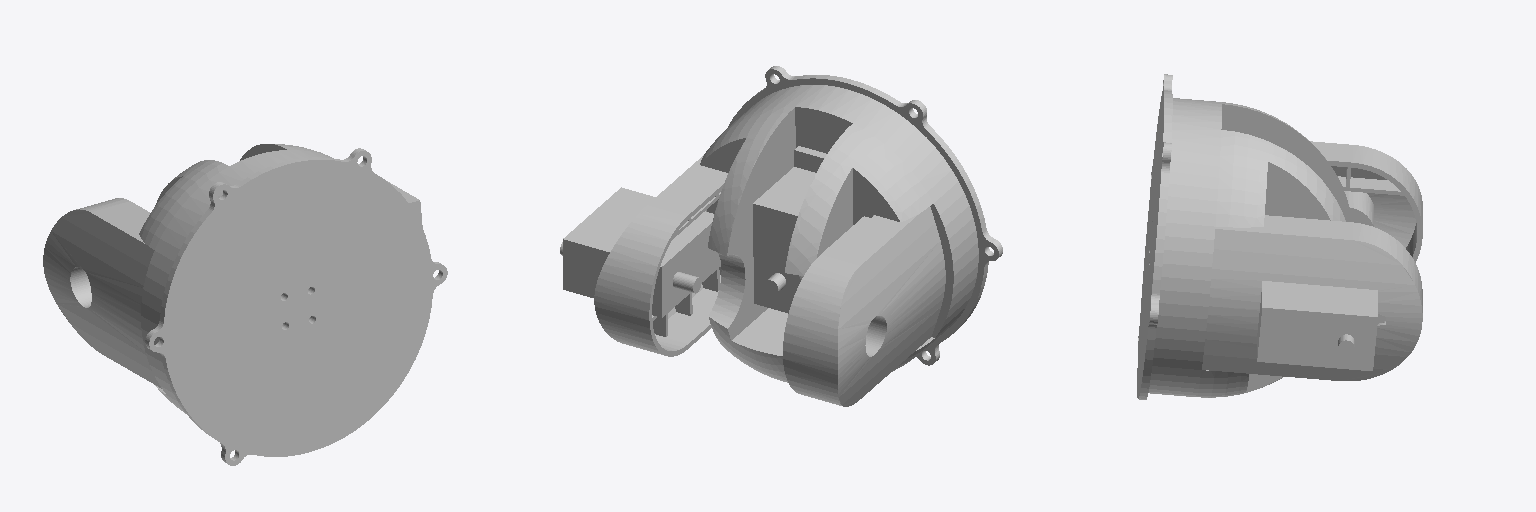
File: sugmejg.obj
3 renders of one model, left to right at view 1: azimuth 30°, elevation 25°; view 2: azimuth 150°, elevation 25°; view 3: azimuth 270°, elevation 25°, orthographic.
Parts seen in each view (by area): view 1: Component30\Solid; view 2: Component30\Solid; view 3: Component30\Solid.
Boxes of the visible parts, <box> form: Component30\Solid: <box>43,144,447,465</box>; Component30\Solid: <box>560,66,1002,406</box>; Component30\Solid: <box>1137,74,1422,399</box>.
Size of the model in its own units: 142 by 112 by 103.